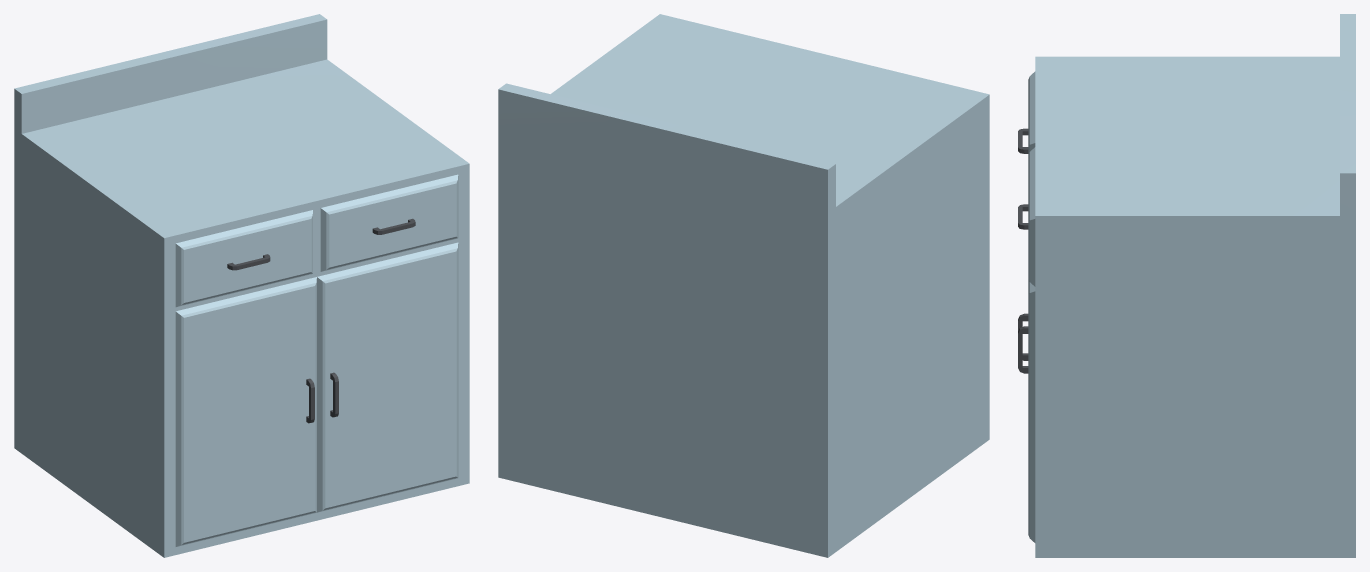
File: Credenza modulare bassa.fbx
3 renders of one model, left to right at view 1: azimuth 30°, elevation 25°; view 2: azimuth 150°, elevation 25°; view 3: azimuth 270°, elevation 25°, orthographic. The views are drawn at different scales.
Parts seen in each view (by area): view 1: polySurface16; view 2: polySurface16; view 3: polySurface16.
Part boxes in pixels (box(x1,y1,x2,y2)): polySurface16: box(14, 14, 469, 557); polySurface16: box(498, 14, 989, 557); polySurface16: box(1018, 14, 1355, 557).
Bounding box in the file's own units: 2 × 2.25 × 1.79.
